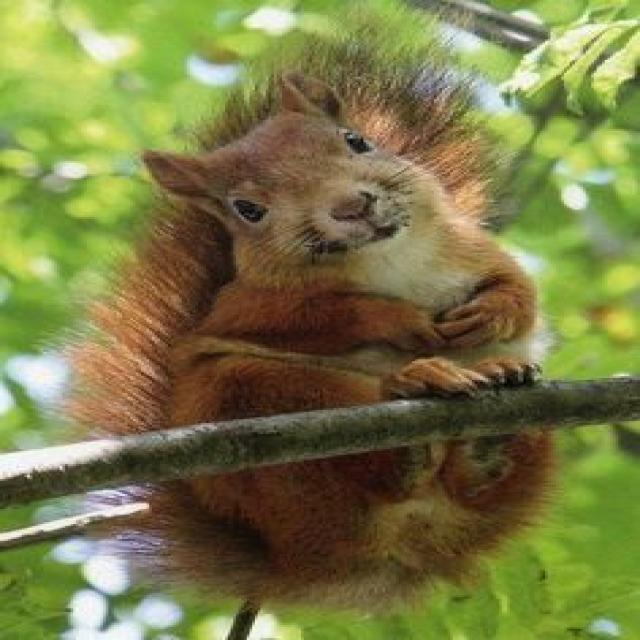Herbivorous: (54, 54, 556, 442), (73, 430, 559, 640)
